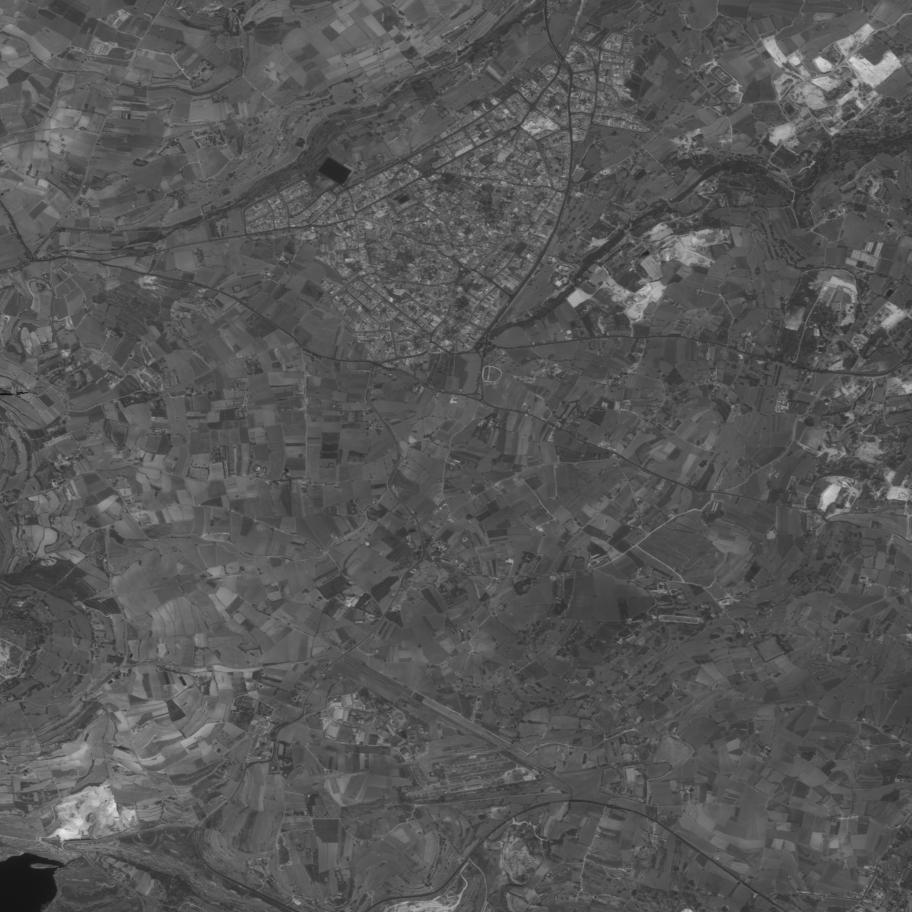storage-tank: (364, 542, 370, 547)
